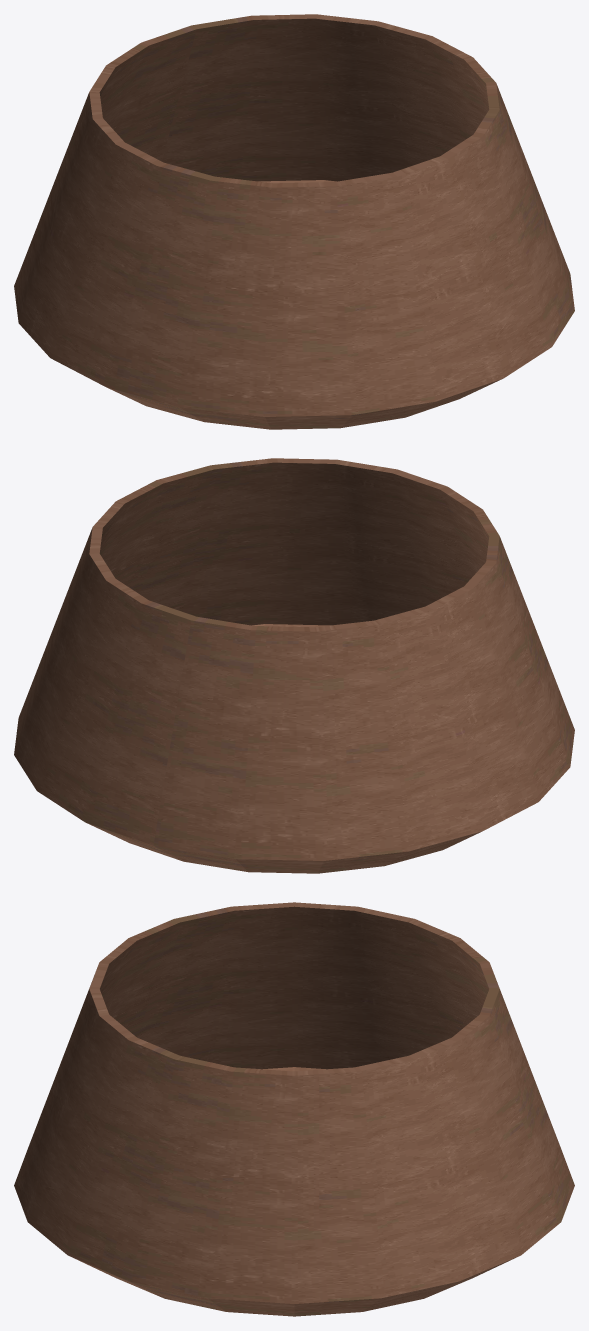
File: DigFlipped.fbx
The picture shows the model from 3 angles, top to bottom: view 1: azimuth 30°, elevation 25°; view 2: azimuth 150°, elevation 25°; view 3: azimuth 270°, elevation 25°; orthographic projection.
Visible parts, largest first — view 1: pPipe1; view 2: pPipe1; view 3: pPipe1.
Boxes of the visible parts, <box> form: pPipe1: <box>14,14,574,429</box>; pPipe1: <box>14,458,574,873</box>; pPipe1: <box>14,902,574,1316</box>.
Size of the model in its own units: 5.39 by 2.48 by 5.39.
